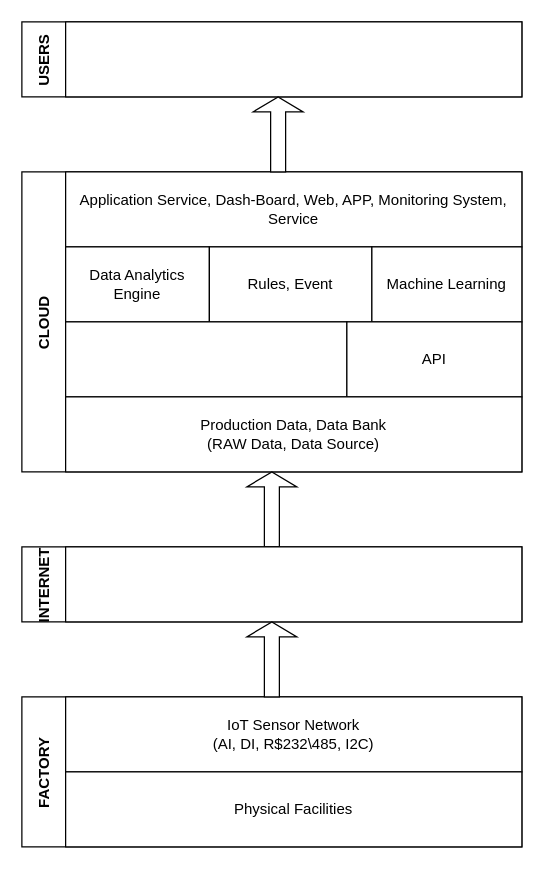
This 544x869 diagram has some shape labels left out. Here are the shapes that lost their labels. From the top down, the centre of each, then its label:
At point 293,59: "Smart & Multi Devices".
At point 205,359: "Application Platform Data Management System".
At point 293,584: "Network Comunication (WIFI, 3G, LTE, Ethernet".
